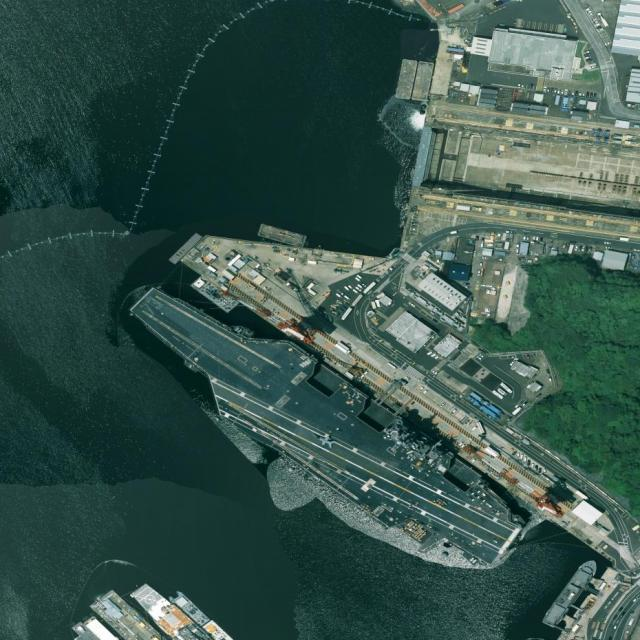Aircraft Carrier: (109, 255, 536, 596)
Auxiliary Ships: (540, 555, 601, 631)
